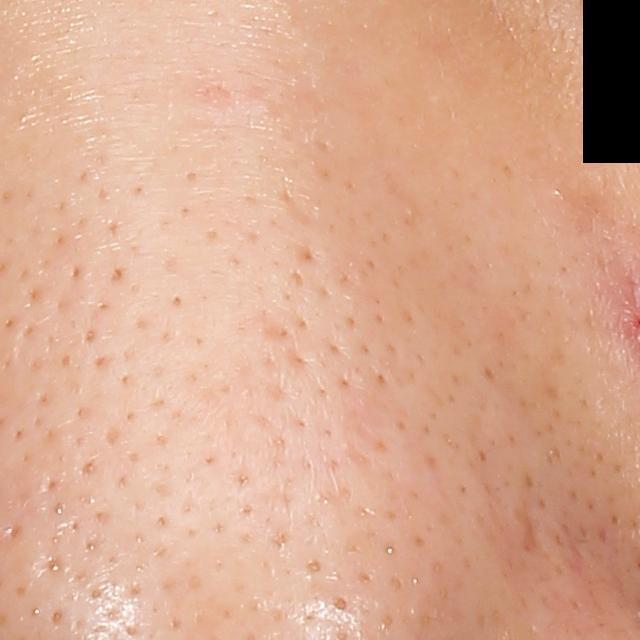atrophic_scar: (275, 180, 324, 228), (513, 502, 544, 557)
comedo: (298, 555, 323, 578), (332, 593, 353, 616)
